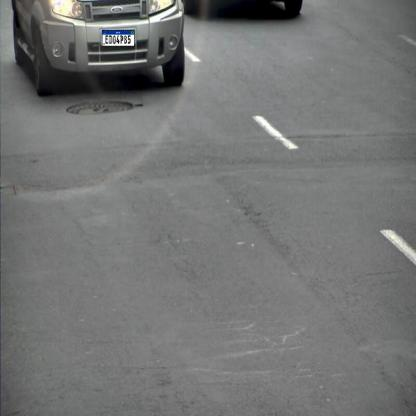PlacaM: (102, 30, 135, 46)
